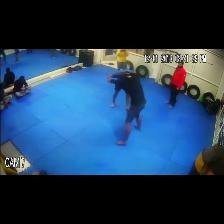person: (108, 72, 146, 145), (188, 146, 223, 174), (166, 61, 186, 108), (13, 76, 31, 97), (0, 83, 12, 110), (117, 49, 128, 70), (111, 85, 121, 107), (4, 68, 15, 88), (0, 49, 5, 61), (15, 49, 19, 63), (50, 49, 56, 58), (27, 49, 32, 53)
